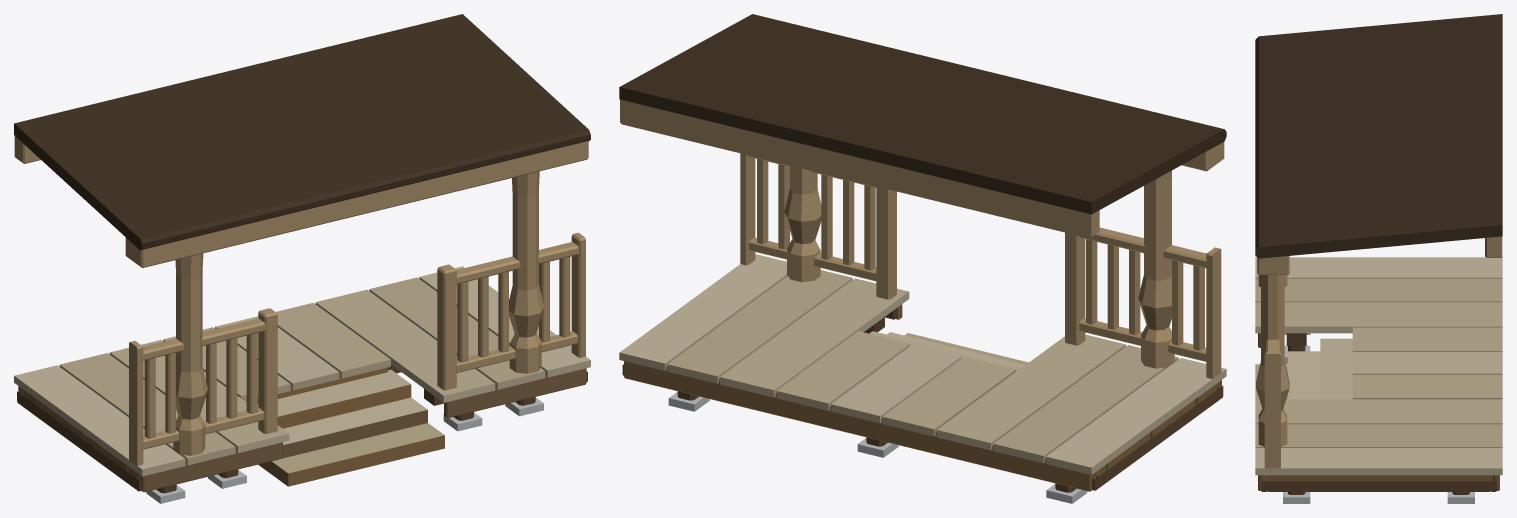
Rendered from front-porch-bay-module-6c7864.glb.
3 views of the same model, side by side, from view 1: azimuth 30°, elevation 25°; view 2: azimuth 150°, elevation 25°; view 3: azimuth 270°, elevation 25° (orthographic). The views are drawn at different scales.
Visible parts, largest first — view 1: front-porch-bay-module; view 2: front-porch-bay-module; view 3: front-porch-bay-module.
Part boxes in pixels (left/top/right/bottom): front-porch-bay-module: left=14, top=14, right=590, bottom=503; front-porch-bay-module: left=619, top=14, right=1226, bottom=503; front-porch-bay-module: left=1255, top=14, right=1502, bottom=503.
Size of the model in its own units: 4 by 2.6 by 1.98.
